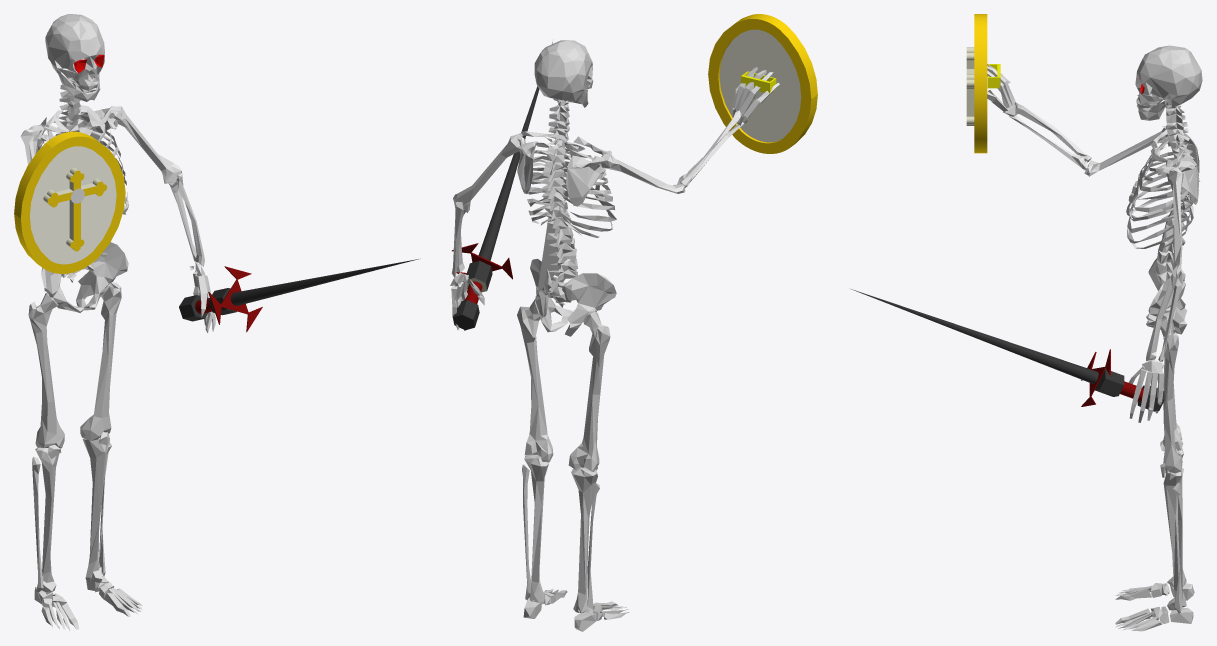
The model's file is skeleton.fbx.
The picture shows the model from 3 angles, left to right: view 1: azimuth 30°, elevation 25°; view 2: azimuth 150°, elevation 25°; view 3: azimuth 270°, elevation 25°; orthographic projection. The views are drawn at different scales.
Visible parts, largest first — view 1: Layer0_001, Group_016, Group_018, Group_003, Group_004; view 2: Layer0_001, Group_016, Group_003, Group_001, Group_002, Group_004, Group_005; view 3: Layer0_001, Group_016, Group_004, Group_002, Group_003, Group_005, Group_001, Group_018.
Part boxes in pixels (<box>): Layer0_001: <box>14,14,142,631</box>; Group_016: <box>179,258,420,332</box>; Group_018: <box>43,167,106,251</box>; Group_003: <box>109,106,181,183</box>; Group_004: <box>168,173,204,266</box>; Layer0_001: <box>516,14,817,631</box>; Group_016: <box>452,42,552,330</box>; Group_003: <box>453,134,525,212</box>; Group_001: <box>600,153,685,193</box>; Group_002: <box>677,110,743,187</box>; Group_004: <box>451,202,465,277</box>; Group_005: <box>450,273,477,307</box>; Layer0_001: <box>974,14,1202,631</box>; Group_016: <box>851,289,1164,411</box>; Group_004: <box>1146,269,1184,361</box>; Group_002: <box>1009,102,1091,170</box>; Group_003: <box>1168,166,1183,278</box>; Group_005: <box>1132,360,1164,395</box>; Group_001: <box>1084,128,1167,176</box>; Group_018: <box>966,47,974,125</box>.
Size of the model in its own units: 260 by 434 by 249.
